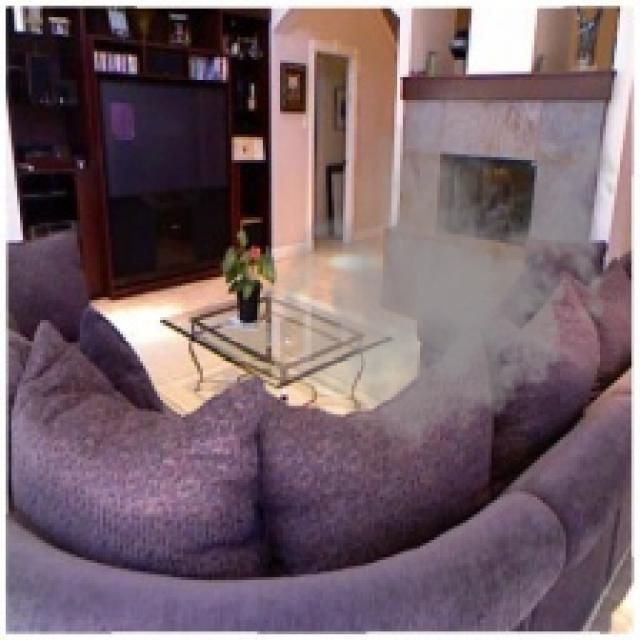Smoke: (257, 66, 629, 468)
